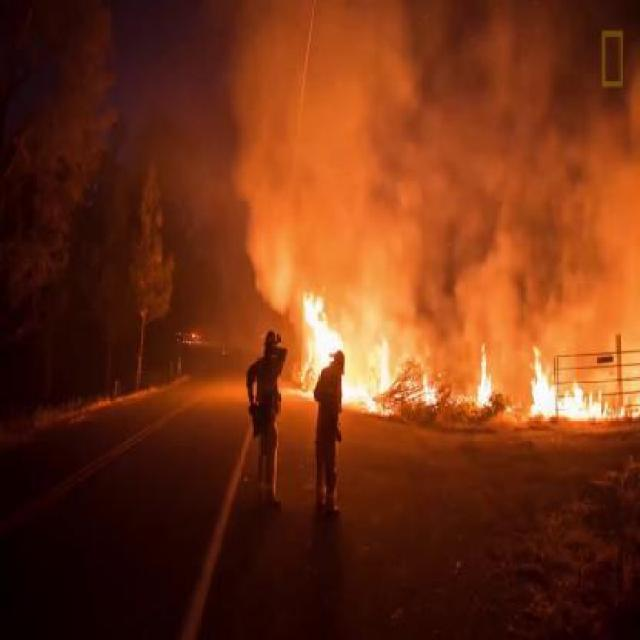Fire: (343, 308, 403, 418), (294, 284, 338, 398), (527, 349, 555, 423), (556, 382, 602, 418), (472, 341, 496, 408), (419, 368, 439, 407), (616, 403, 640, 422)
